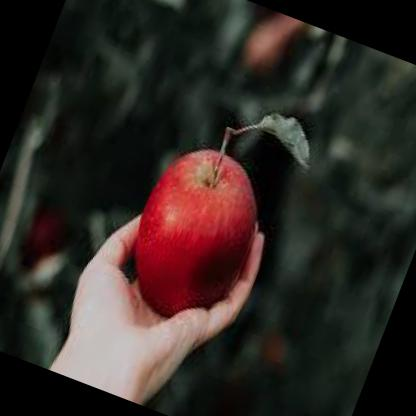apple: (110, 78, 327, 350)
